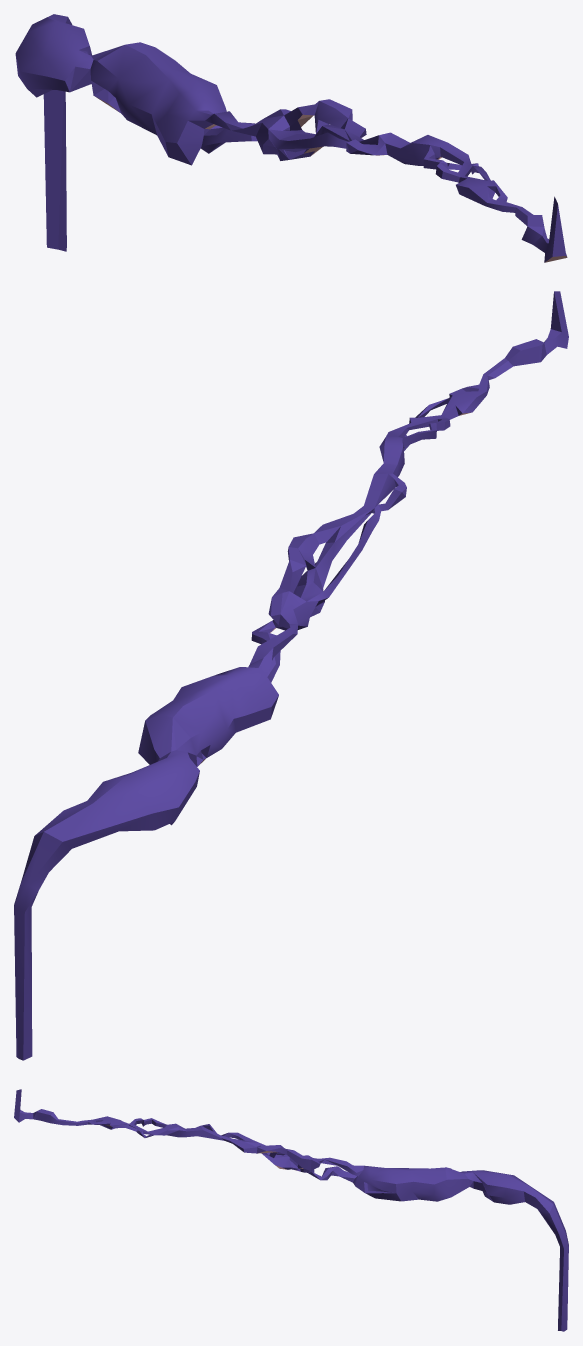
Rendered from Tunnel_2.fbx.
The picture shows the model from 3 angles, top to bottom: view 1: azimuth 30°, elevation 25°; view 2: azimuth 150°, elevation 25°; view 3: azimuth 270°, elevation 25°; orthographic projection. The views are drawn at different scales.
Visible parts, largest first — view 1: Tunnel_2; view 2: Tunnel_2; view 3: Tunnel_2.
Boxes of the visible parts, bbox=[...] form: Tunnel_2: bbox=[15, 14, 567, 262]; Tunnel_2: bbox=[14, 291, 568, 1060]; Tunnel_2: bbox=[14, 1089, 568, 1331].
Size of the model in its own units: 13347 by 51631 by 112803.
